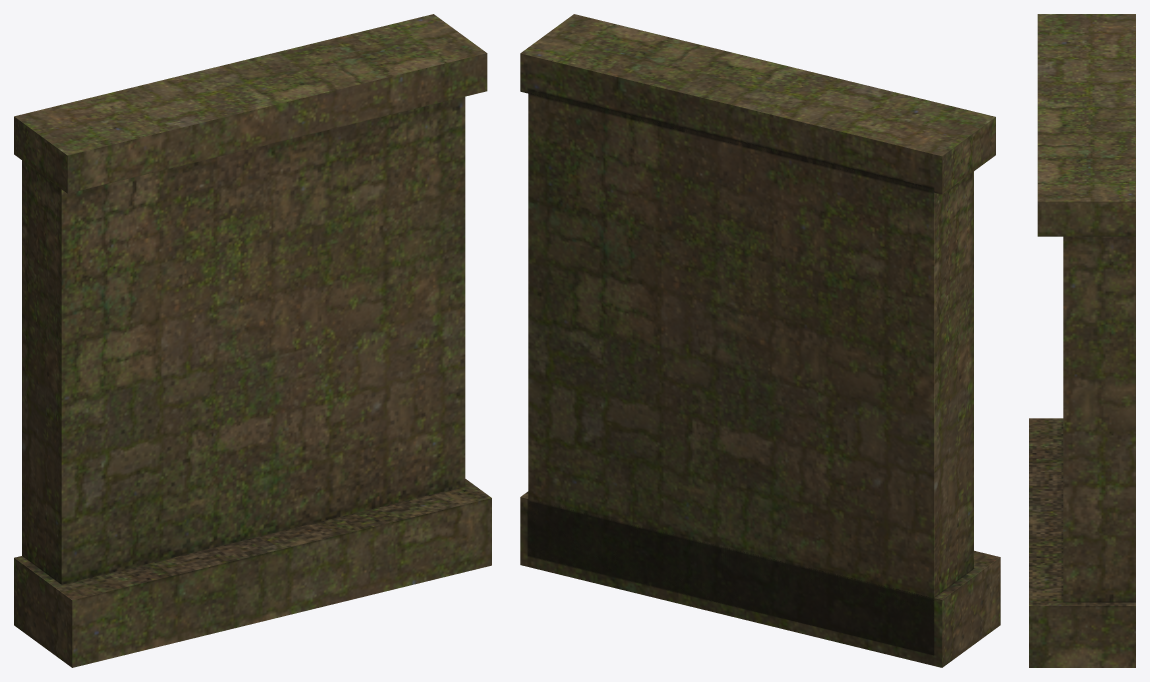
Rendered from wall_straight.glb.
The picture shows the model from 3 angles, left to right: view 1: azimuth 30°, elevation 25°; view 2: azimuth 150°, elevation 25°; view 3: azimuth 270°, elevation 25°; orthographic projection. The views are drawn at different scales.
Parts seen in each view (by area): view 1: wall_straight; view 2: wall_straight; view 3: wall_straight.
Boxes of the visible parts, x1,y1,x2,y2 form: wall_straight: (14,14,491,667); wall_straight: (520,14,1000,667); wall_straight: (1029,14,1135,667).
Size of the model in its own units: 2.08 by 2.41 by 0.5.
Materials: 1 (1 with a texture image).
